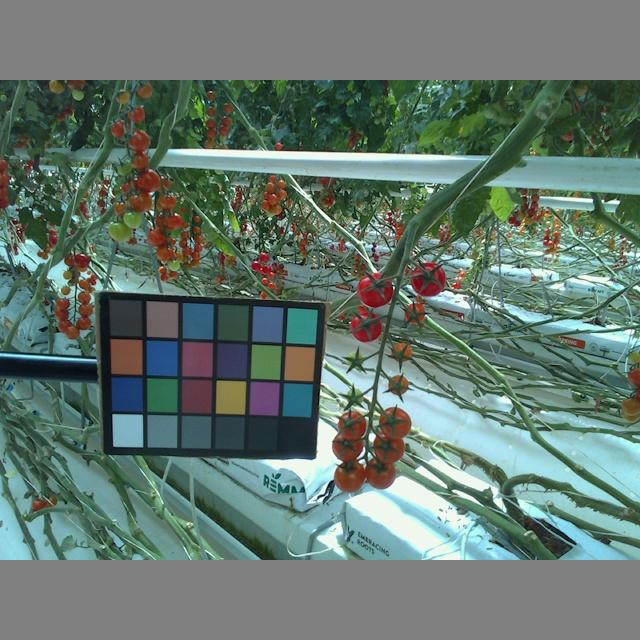green: (105, 220, 134, 244), (121, 208, 149, 229)
pink: (379, 406, 412, 440), (373, 431, 407, 464), (334, 461, 368, 494), (365, 454, 397, 488), (331, 430, 365, 462), (335, 412, 370, 440), (135, 168, 160, 194), (127, 128, 150, 151), (386, 373, 410, 395), (128, 191, 152, 213), (390, 342, 414, 363), (403, 303, 427, 323), (128, 151, 149, 171), (134, 82, 155, 100), (125, 106, 146, 123), (115, 88, 131, 105), (112, 120, 128, 136)
red: (354, 271, 393, 308), (410, 261, 446, 295), (350, 309, 384, 343)
